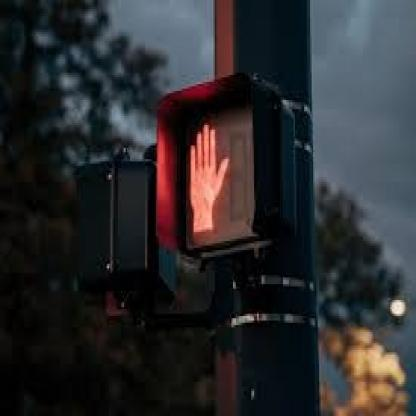Don-t Walk: (160, 92, 272, 250)
